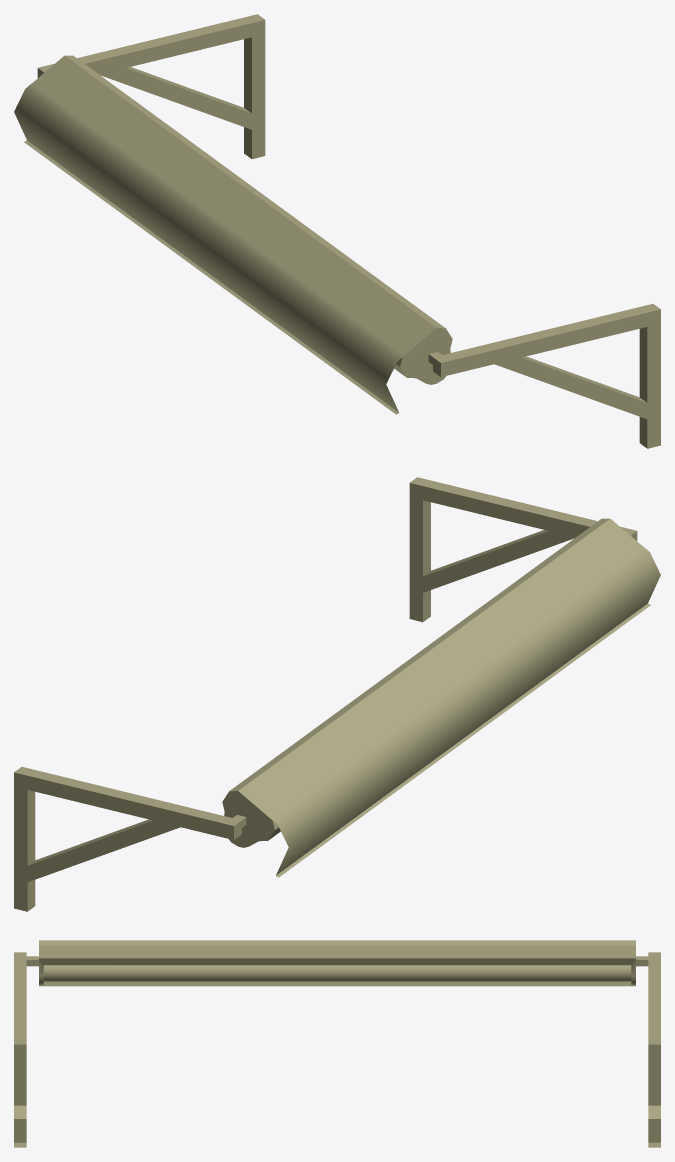
The model's file is Lamp_board.fbx.
3 renders of one model, top to bottom at view 1: azimuth 30°, elevation 25°; view 2: azimuth 150°, elevation 25°; view 3: azimuth 270°, elevation 25°, orthographic. The views are drawn at different scales.
Visible parts, largest first — view 1: Frame, Base; view 2: Frame, Base; view 3: Frame, Lamp, Base.
Part boxes in pixels (x1,y1,x2,y2): Frame: (14,55,452,414); Base: (37,14,660,448); Frame: (222,518,660,877); Base: (14,477,637,911); Frame: (39,940,635,986); Lamp: (43,965,631,981); Base: (14,952,660,1147).
Bounding box in the file's own units: 184 × 107 × 497.
